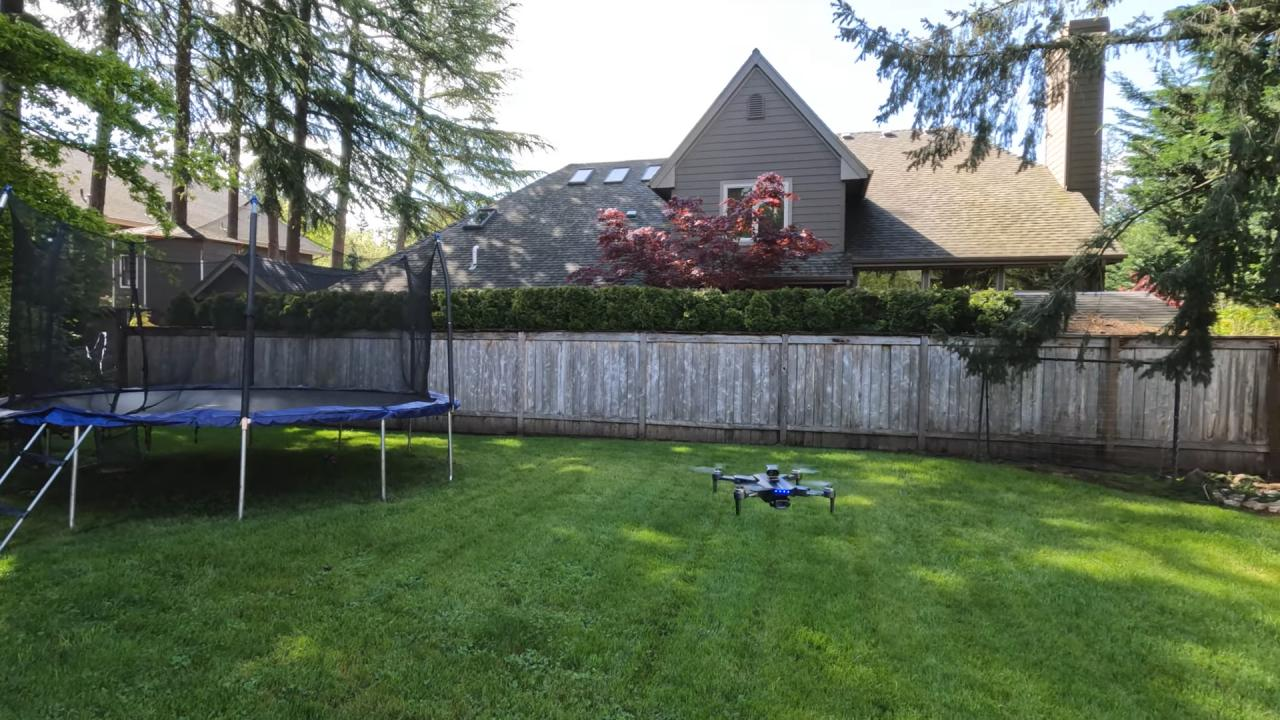Drone: (677, 452, 847, 528)
